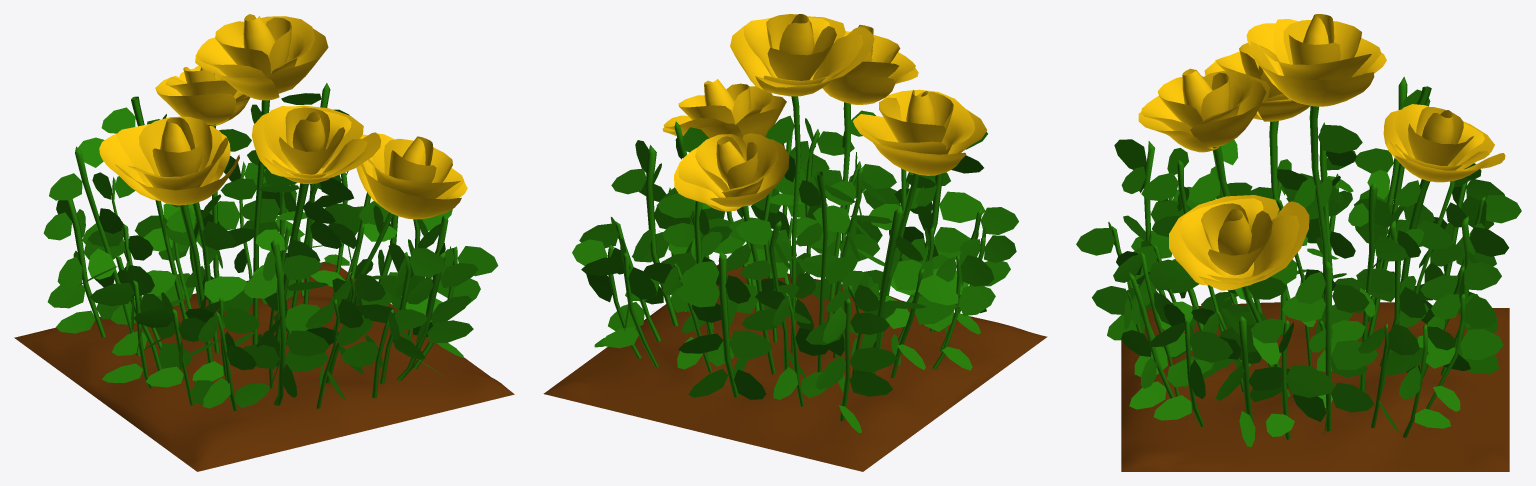
Rendered from yellow-rose-p3-bloom.glb.
3 renders of one model, left to right at view 1: azimuth 30°, elevation 25°; view 2: azimuth 150°, elevation 25°; view 3: azimuth 270°, elevation 25°, orthographic. The views are drawn at different scales.
Parts seen in each view (by area): view 1: 3_nft_bloom; view 2: 3_nft_bloom; view 3: 3_nft_bloom.
Boxes of the visible parts, x1,y1,x2,y2 form: 3_nft_bloom: [14, 14, 514, 471]; 3_nft_bloom: [543, 14, 1047, 471]; 3_nft_bloom: [1076, 14, 1521, 471].
Bounding box in the file's own units: 0.7993 × 0.7387 × 0.8042.
